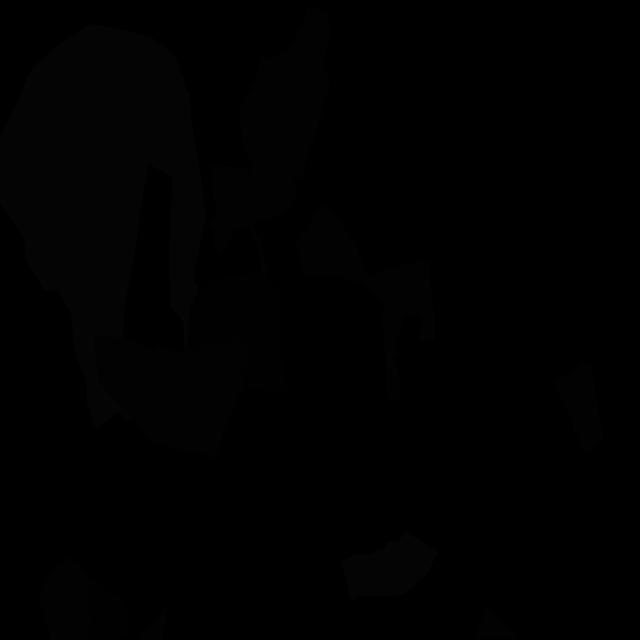cardboard: (295, 205, 436, 401), (240, 7, 330, 225), (95, 333, 246, 460), (208, 165, 268, 278), (554, 360, 603, 454), (40, 557, 92, 640), (474, 606, 520, 639), (136, 605, 168, 640)
rigid_plastic: (188, 273, 288, 396), (87, 575, 129, 640)
soft_plastic: (0, 24, 207, 429), (341, 531, 438, 601)
